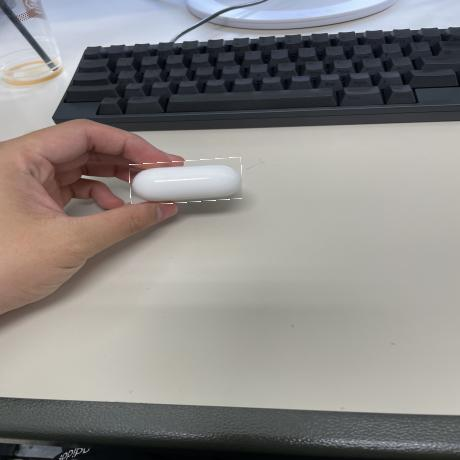airpod3: (129, 160, 243, 204)
